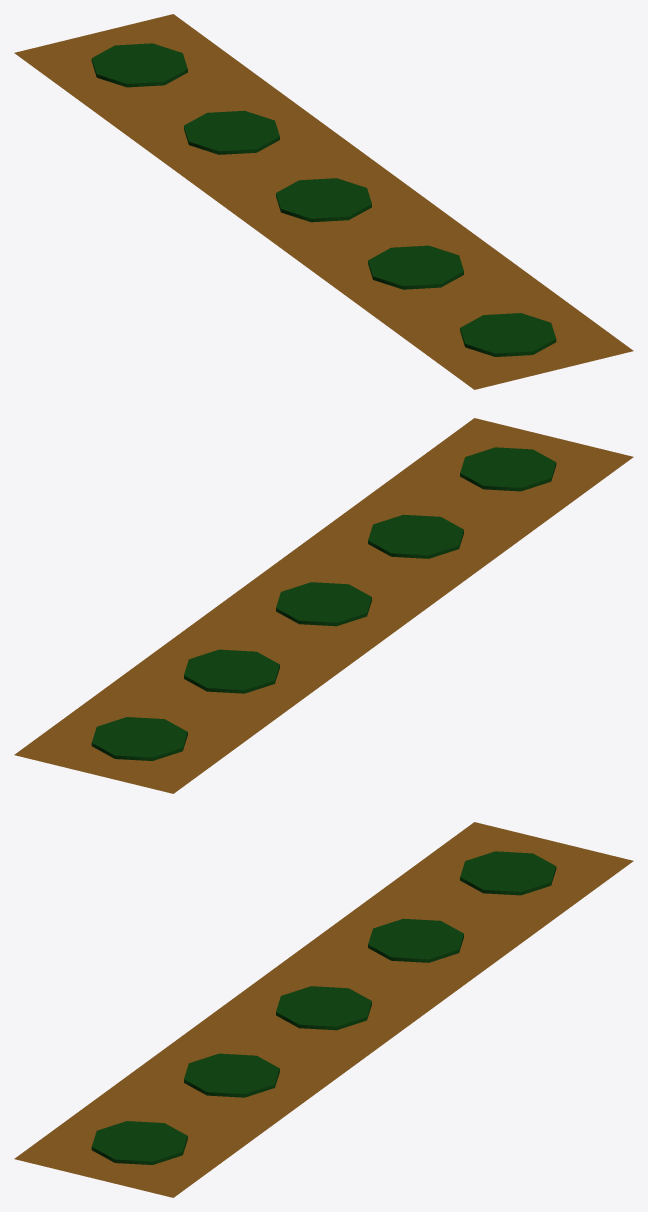
File: FarmRow.fbx
3 views of the same model, one above another, from view 1: azimuth 30°, elevation 25°; view 2: azimuth 150°, elevation 25°; view 3: azimuth 330°, elevation 25° (orthographic).
Parts seen in each view (by area): view 1: FarmRow; view 2: FarmRow; view 3: FarmRow.
Part boxes in pixels (bbox=[...]): FarmRow: bbox=[14, 14, 633, 389]; FarmRow: bbox=[14, 418, 633, 793]; FarmRow: bbox=[14, 822, 633, 1197].
Size of the model in its own units: 66.67 by 1.41 by 333.
